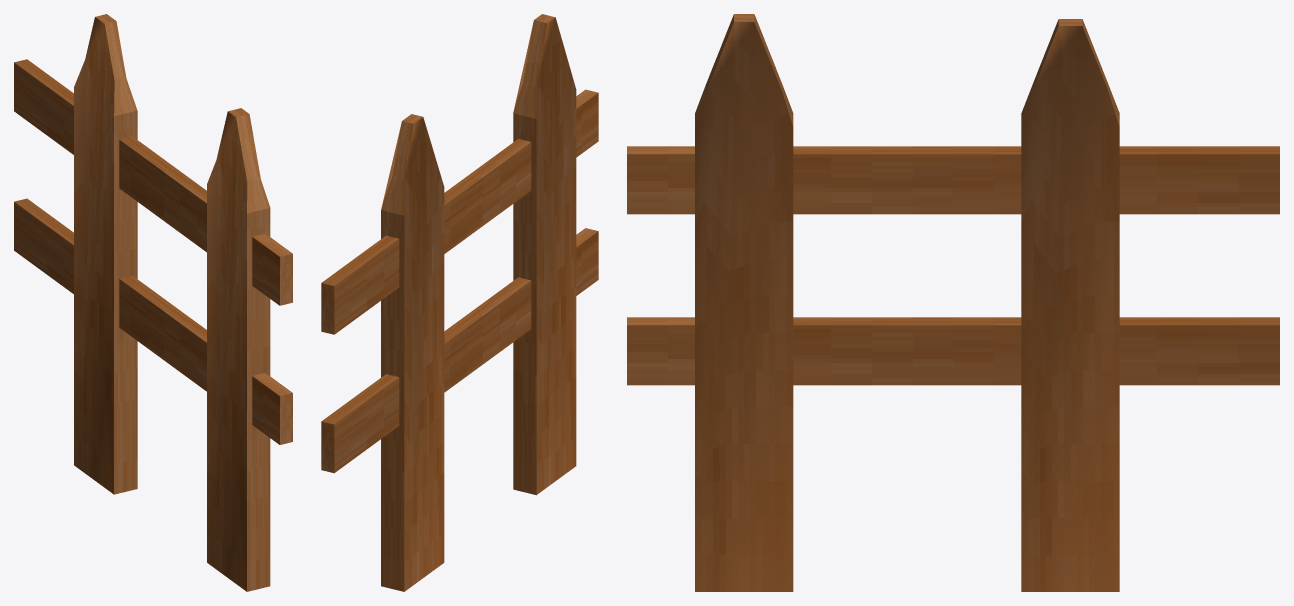
Rendered from Fence3.glb.
3 views of the same model, side by side, from view 1: azimuth 30°, elevation 25°; view 2: azimuth 150°, elevation 25°; view 3: azimuth 270°, elevation 25° (orthographic). The views are drawn at different scales.
Parts seen in each view (by area): view 1: Fence3_joined; view 2: Fence3_joined; view 3: Fence3_joined.
Part boxes in pixels (x1,y1,x2,y2): Fence3_joined: (14,14,292,591); Fence3_joined: (321,14,598,591); Fence3_joined: (627,14,1279,591).
Size of the model in its own units: 0.0509 by 0.9583 by 1.
Materials: 1 (1 with a texture image).
